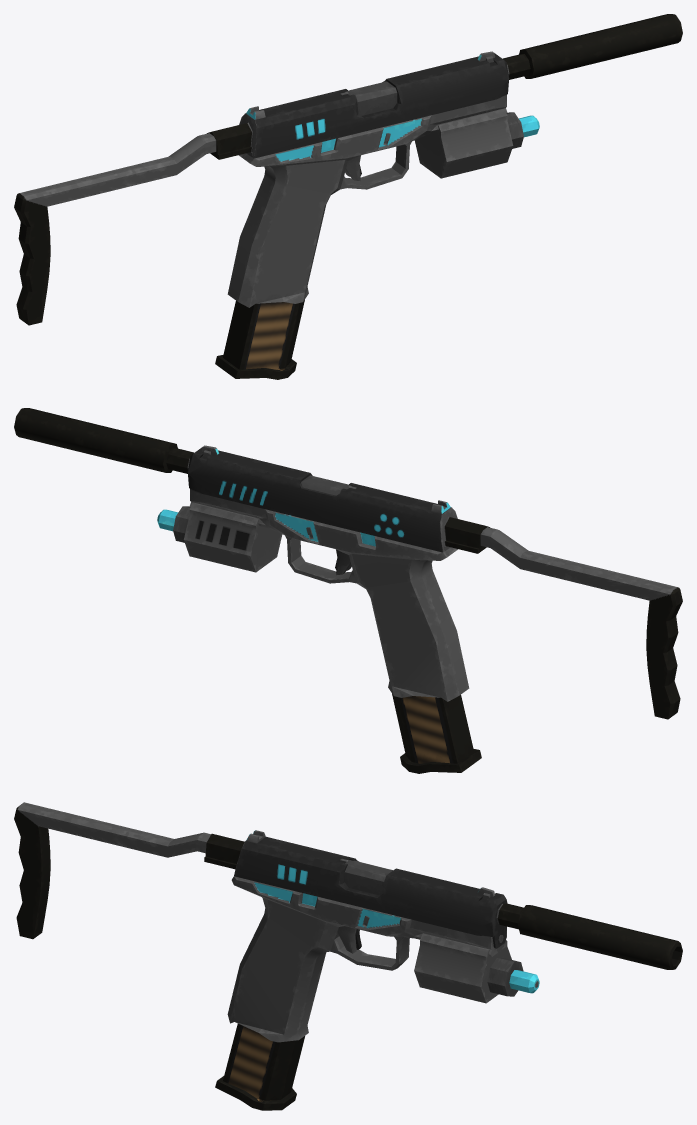
Rendered from Pistol 5.fbx.
The picture shows the model from 3 angles, top to bottom: view 1: azimuth 30°, elevation 25°; view 2: azimuth 150°, elevation 25°; view 3: azimuth 330°, elevation 25°; orthographic projection.
Visible parts, largest first — view 1: Pistol 5; view 2: Pistol 5; view 3: Pistol 5.
Boxes of the visible parts, bbox=[...] form: Pistol 5: bbox=[14, 14, 682, 379]; Pistol 5: bbox=[14, 408, 682, 773]; Pistol 5: bbox=[14, 802, 682, 1110].
Bounding box in the file's own units: 39.58 × 15.18 × 3.39.
